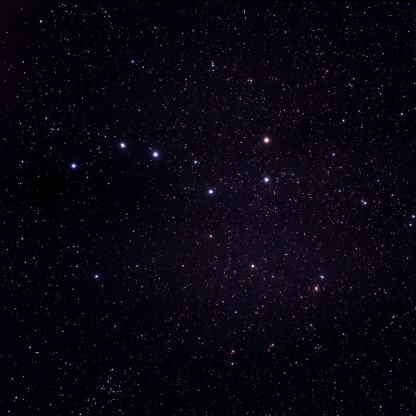Ursa Major: (63, 155, 82, 177), (256, 169, 277, 188), (145, 143, 162, 164), (113, 137, 131, 154), (199, 180, 216, 198), (257, 129, 274, 147), (187, 151, 202, 168)
